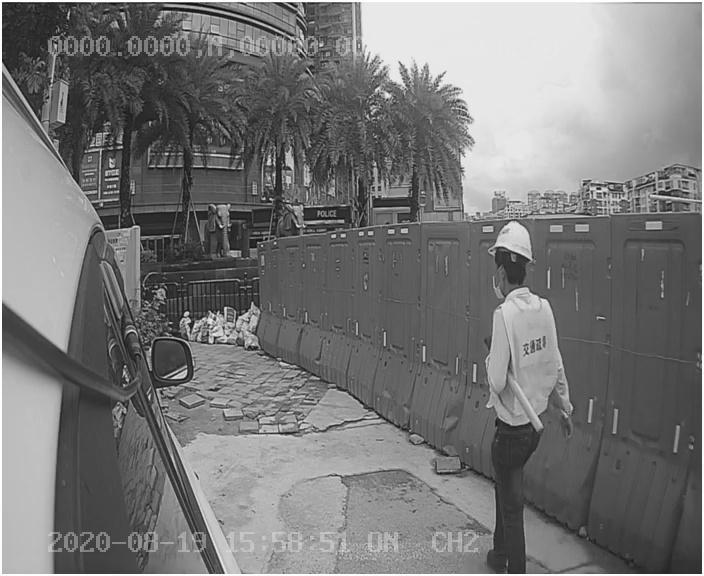person: (464, 221, 590, 563)
